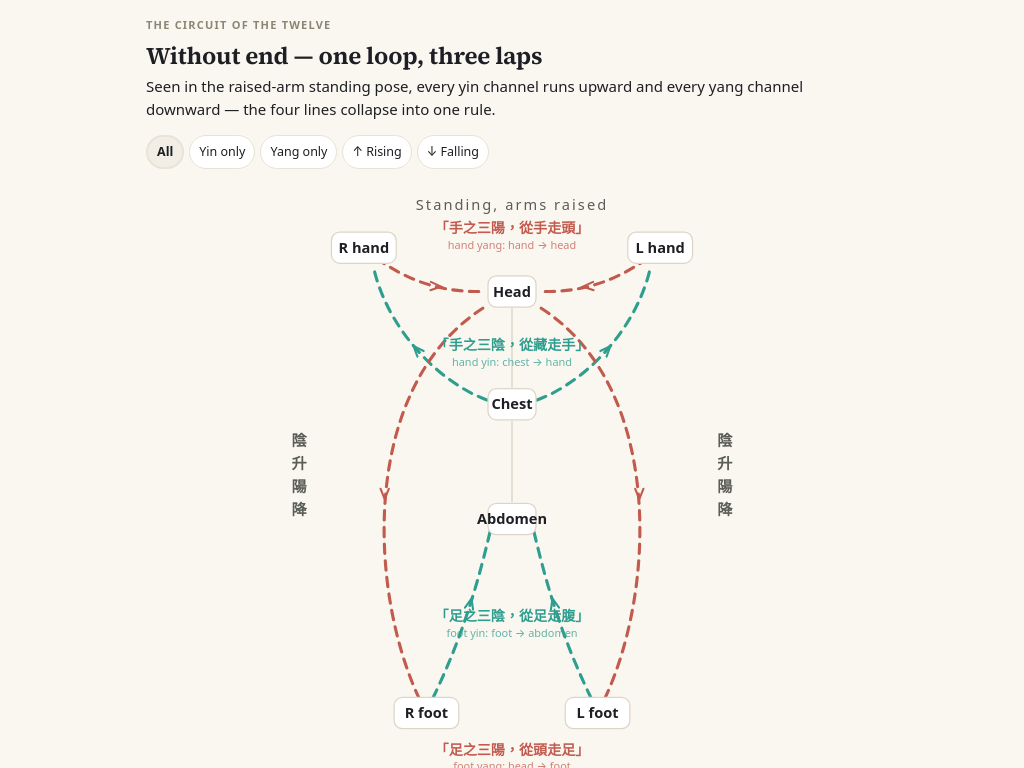
Scenario: the bilateral body › cuts both sides at once with the toggles
Click the button "Yin only".
click(222, 152)  # box [189,135,256,169]
(page scrolled)
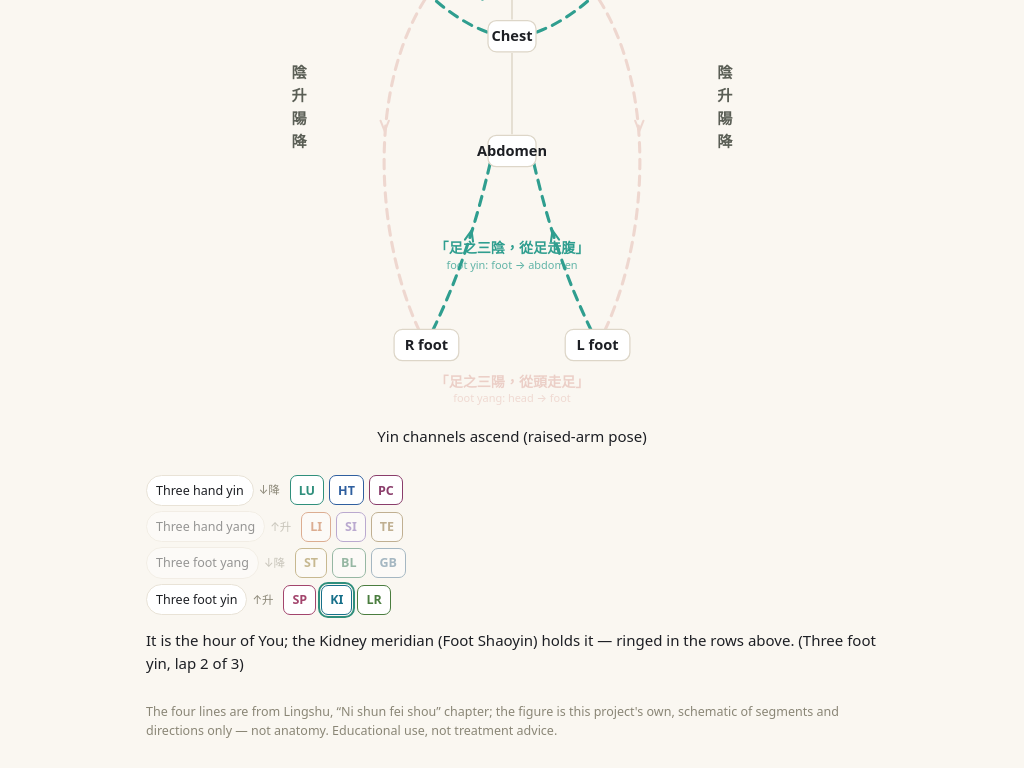
Check: the text "Yin channels ascend (raised-arm pose)" is shown, box [377,426,647,446]
